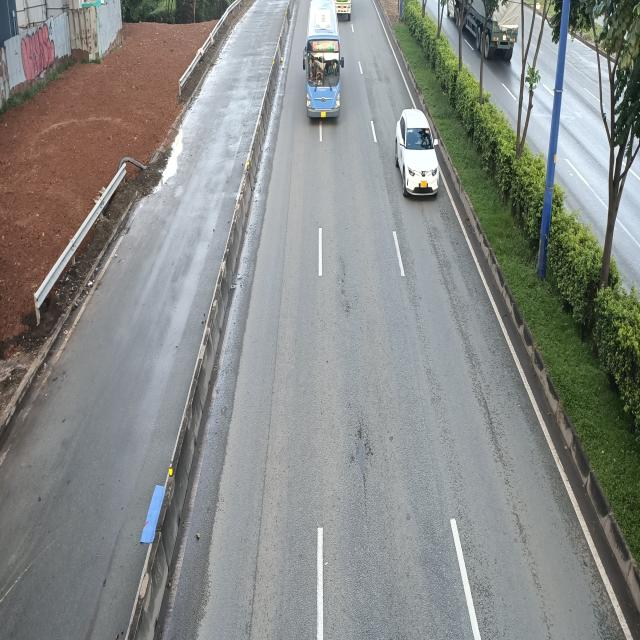car: (396, 109, 440, 199)
coach: (302, 1, 343, 121)
